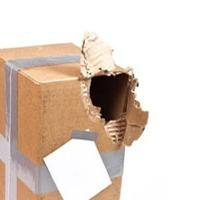damaged package: (73, 33, 146, 151)
undamaged: (0, 31, 156, 198)
